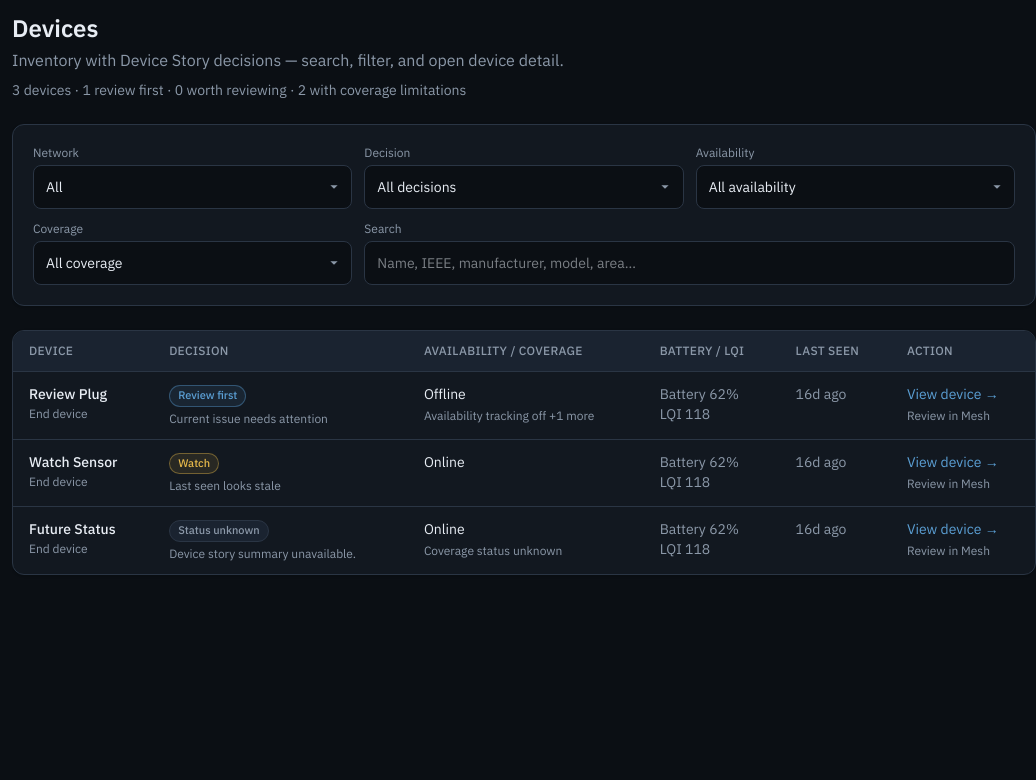
Test: DevicesPage decision inventory › uses mapped decision filter labels and filters by raw status
Step 1. Select "Review first" in the dropdown labelled "Decision" → (524, 187), box [364, 165, 684, 209]
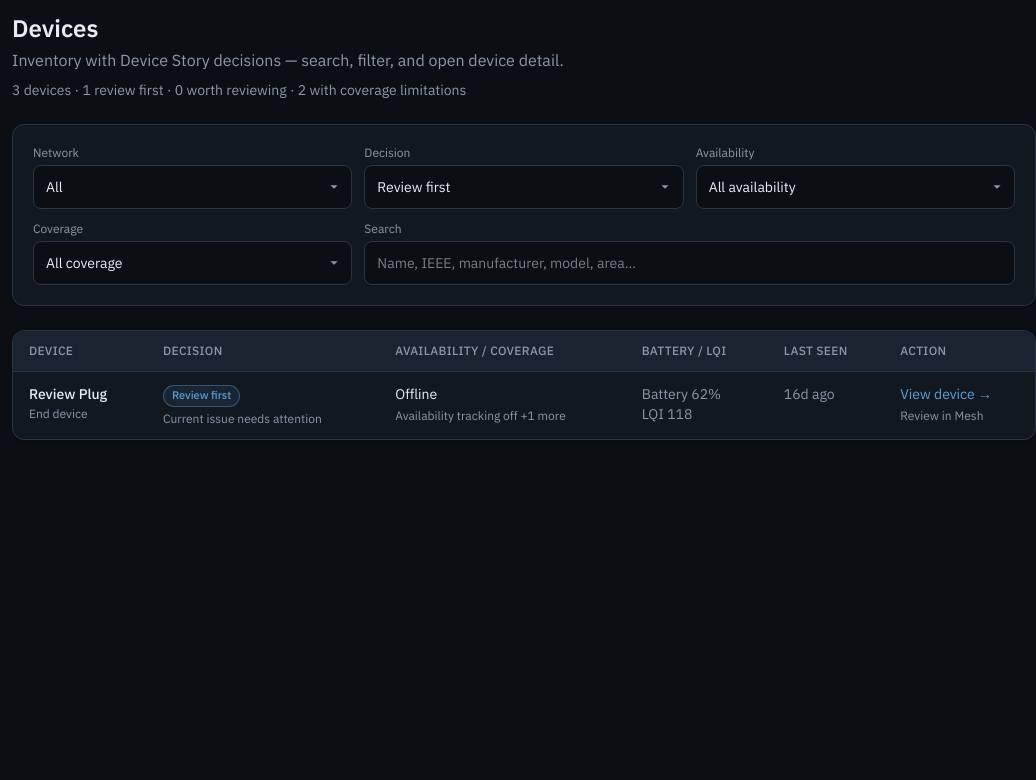
expect the text "Review Plug" is shown: met, box [29, 385, 107, 403]
expect the text "Watch Sensor" is gone: met
